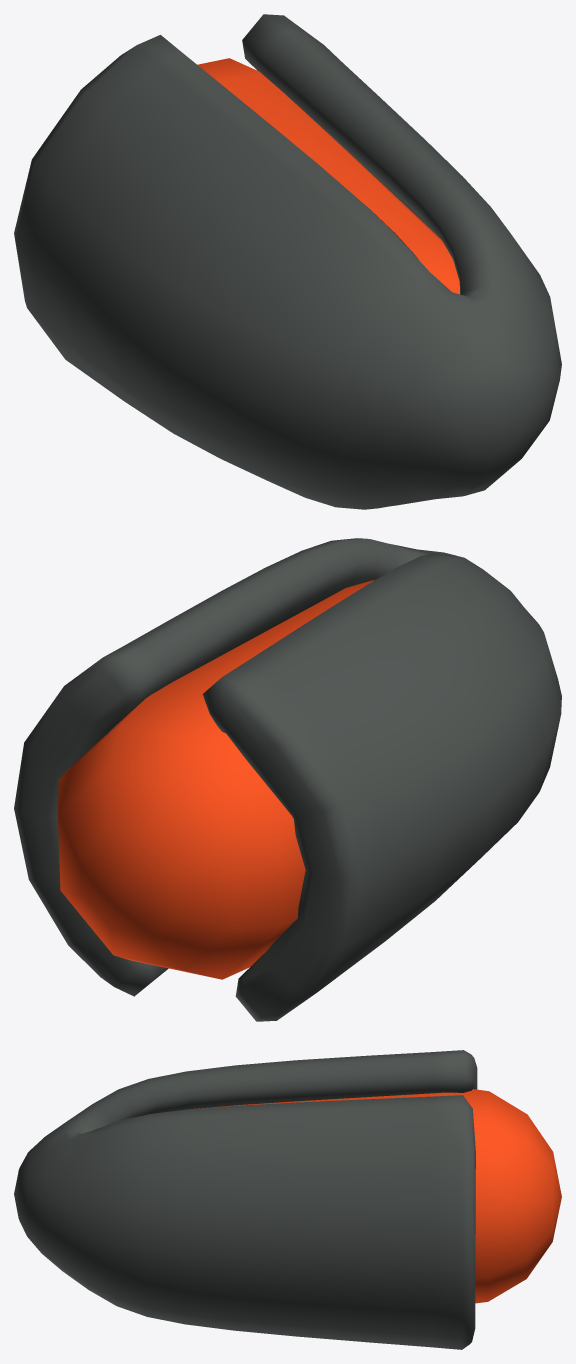
Rendered from xsens_RightFirstDP.dae.
3 renders of one model, top to bottom at view 1: azimuth 30°, elevation 25°; view 2: azimuth 150°, elevation 25°; view 3: azimuth 270°, elevation 25°, orthographic. The views are drawn at different scales.
Parts seen in each view (by area): view 1: RightFirstDP; view 2: RightFirstDP; view 3: RightFirstDP.
Boxes of the visible parts, x1,y1,x2,y2 form: RightFirstDP: (14,14,561,509); RightFirstDP: (14,538,561,1021); RightFirstDP: (14,1050,561,1349).
Size of the model in its own units: 0.018 by 0.0309 by 0.0161.
